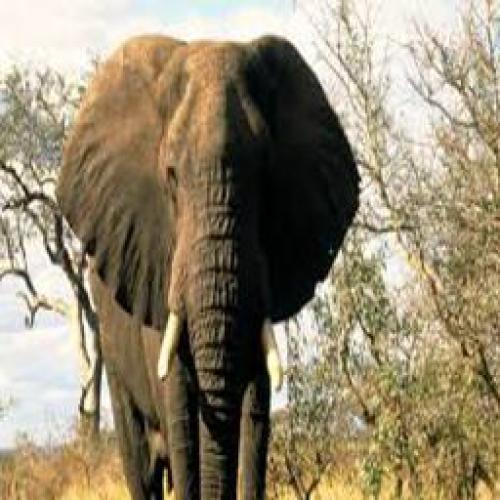african_elephant-endangered: (58, 37, 354, 500)
